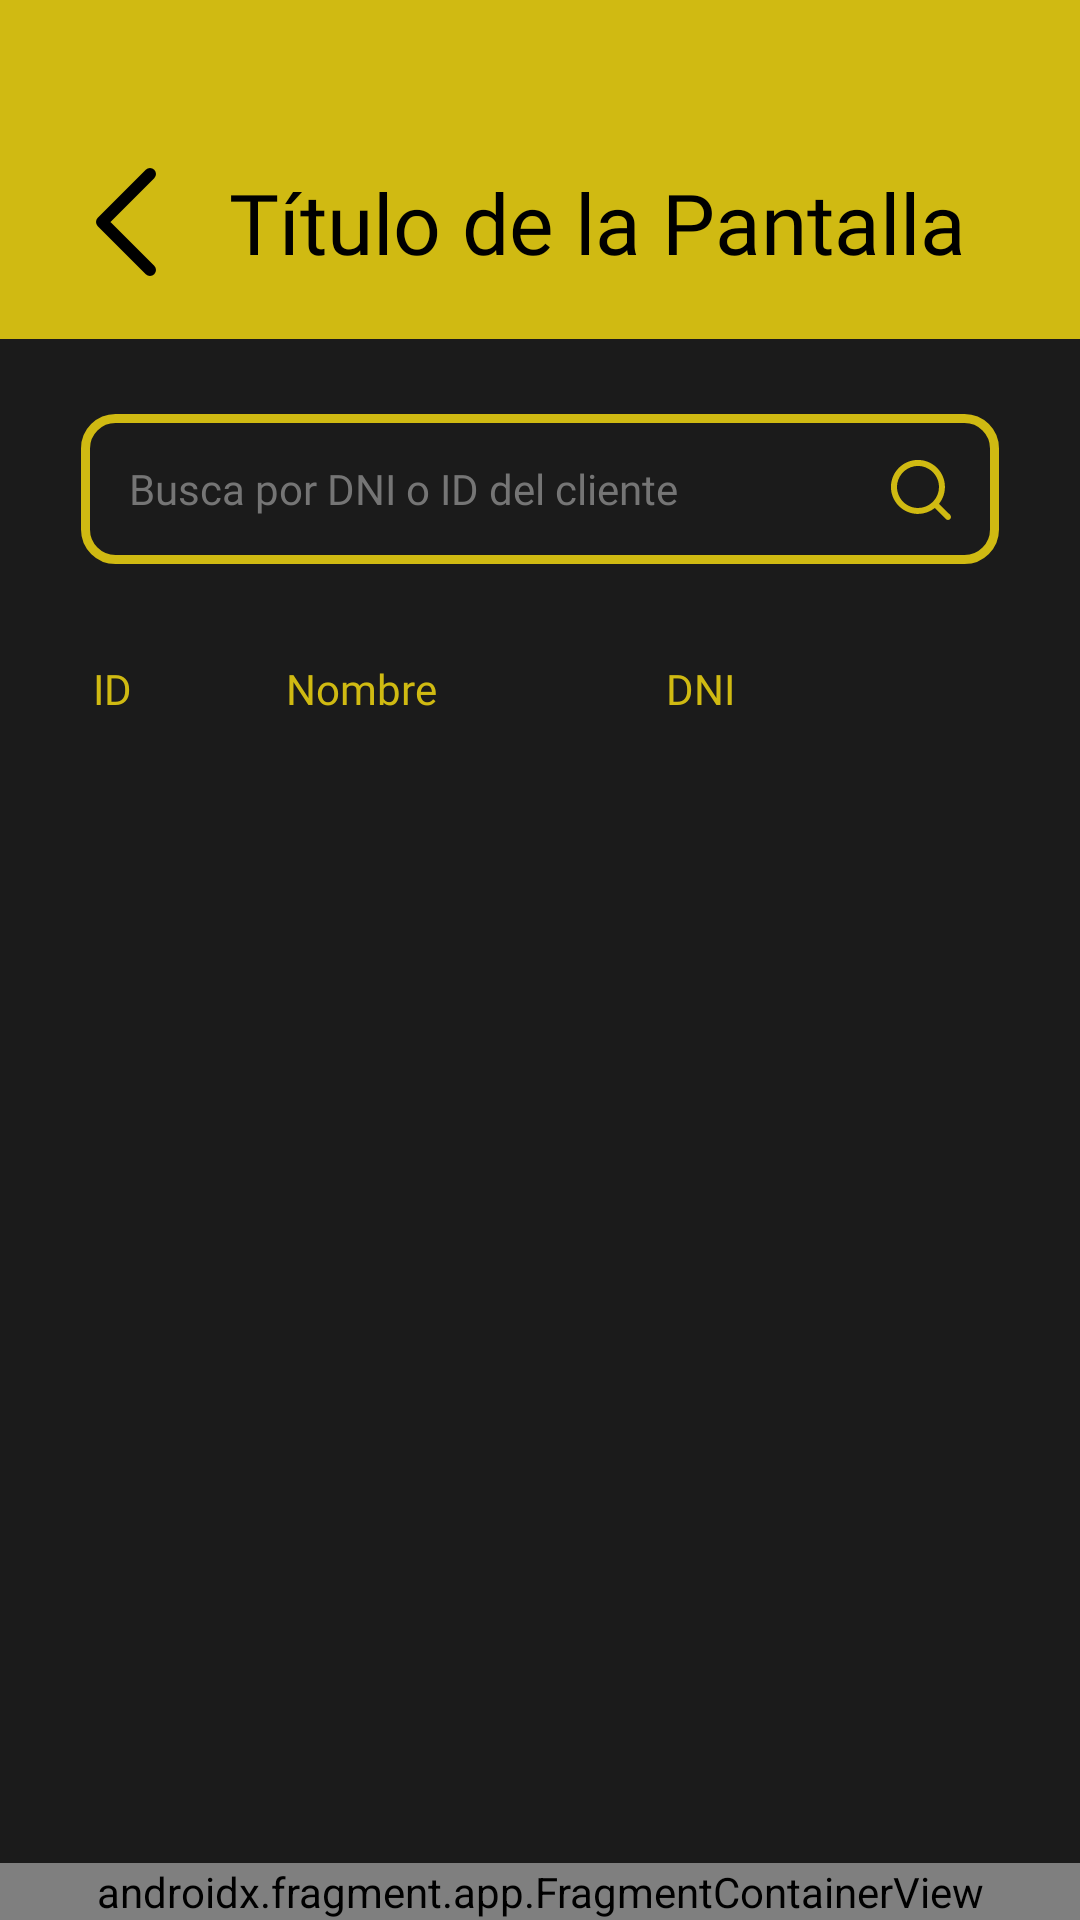

Icons on this 1080*1920 Android screen, each with its box as rect(x1, y1, x2, y2):
atras: rect(96, 168, 156, 276)
